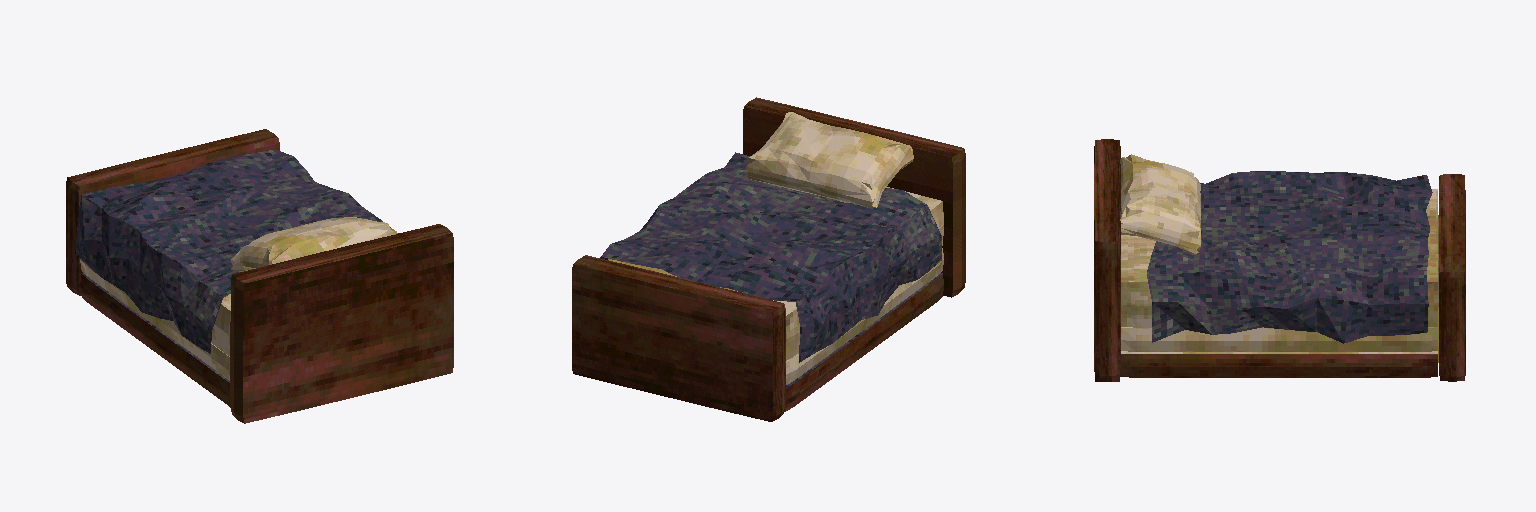
The picture shows the model from 3 angles: view 1: azimuth 30°, elevation 25°; view 2: azimuth 150°, elevation 25°; view 3: azimuth 270°, elevation 25°; orthographic projection.
Visible parts, largest first — view 1: Bedbasicexport1:pCube8; view 2: Bedbasicexport1:pCube8; view 3: Bedbasicexport1:pCube8.
Part boxes in pixels (bbox=[...]): Bedbasicexport1:pCube8: bbox=[66, 129, 453, 423]; Bedbasicexport1:pCube8: bbox=[572, 97, 965, 421]; Bedbasicexport1:pCube8: bbox=[1094, 139, 1465, 381].
Bounding box in the file's own units: 1.69 × 1.07 × 2.37.
1 materials, 1 textured.